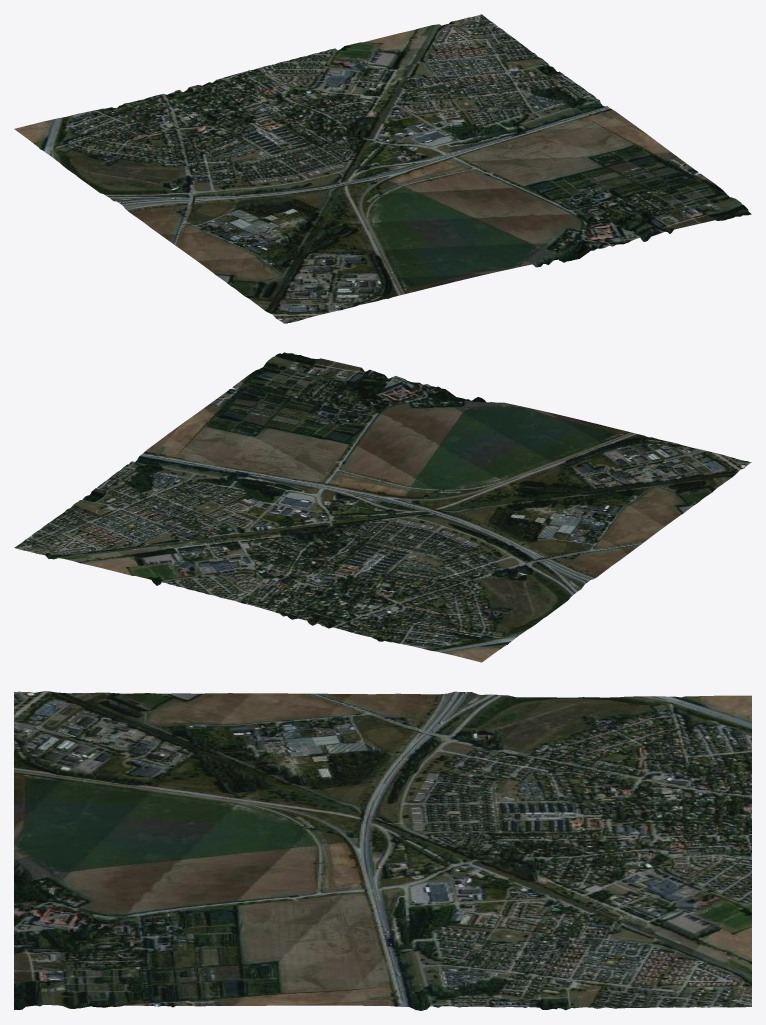
The model's file is map_10_253_428.dae.
The picture shows the model from 3 angles, top to bottom: view 1: azimuth 30°, elevation 25°; view 2: azimuth 150°, elevation 25°; view 3: azimuth 270°, elevation 25°; orthographic projection. The views are drawn at different scales.
Visible parts, largest first — view 1: Ter0; view 2: Ter0; view 3: Ter0.
Boxes of the visible parts, <box> form: Ter0: <box>14,14,751,323</box>; Ter0: <box>14,352,751,662</box>; Ter0: <box>14,691,751,1010</box>.
Size of the model in its own units: 2044 by 2044 by 38.45.
3 materials, 3 textured.
